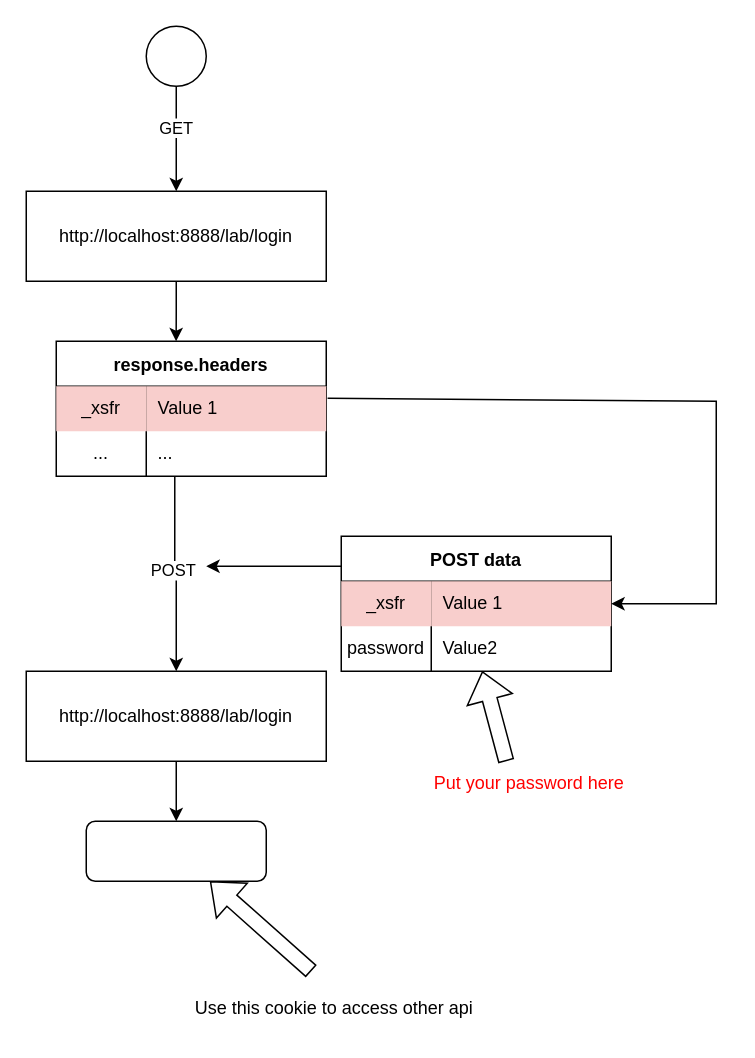
This 755x1058 diagram has some shape labels left out. Here are the shapes that lost their labels. From the top down, the centre of each, then its label:
At [175,55]: "start".
At [175,850]: "cookies".
